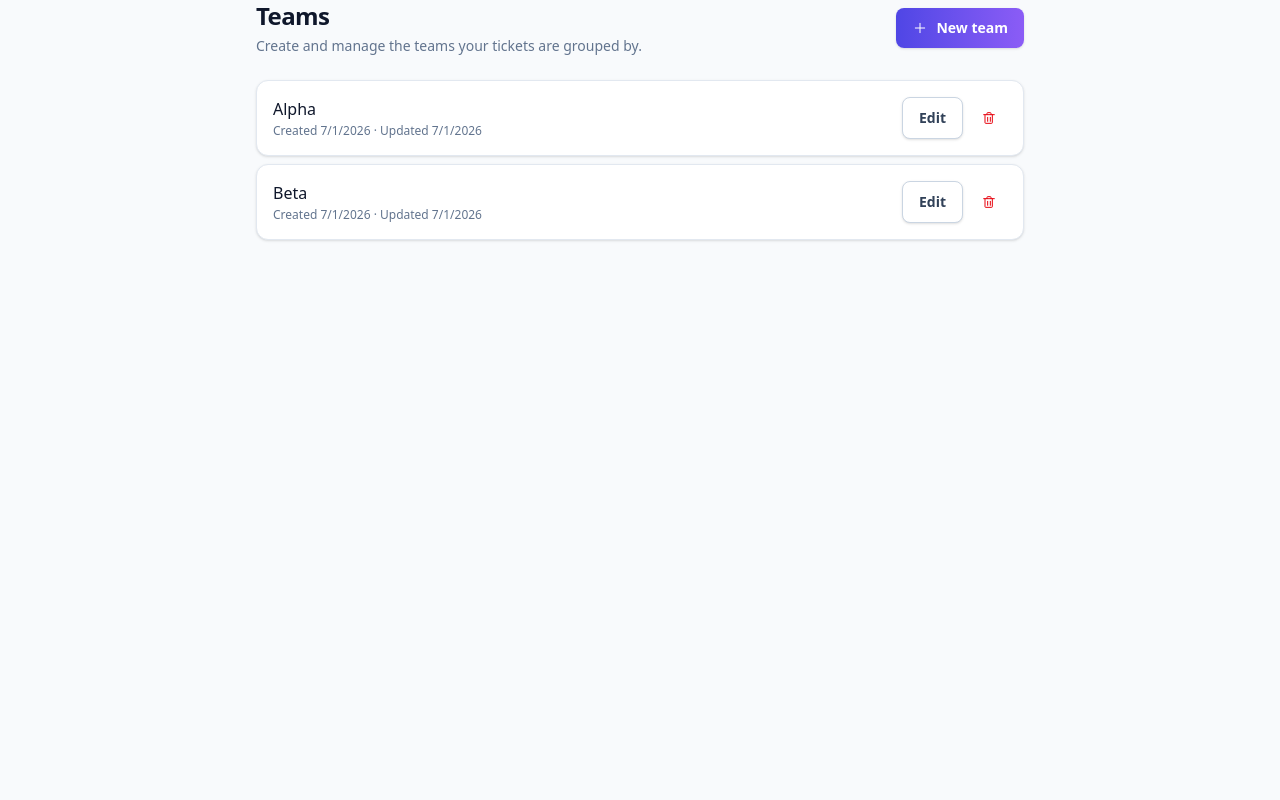
Test: a 409 on create shows the duplicate-name message
Expected: the text "Alpha" is shown, left=273, top=98, right=316, bottom=120
Click the button "New team" at point(960, 28), box left=896, top=8, right=1024, bottom=48
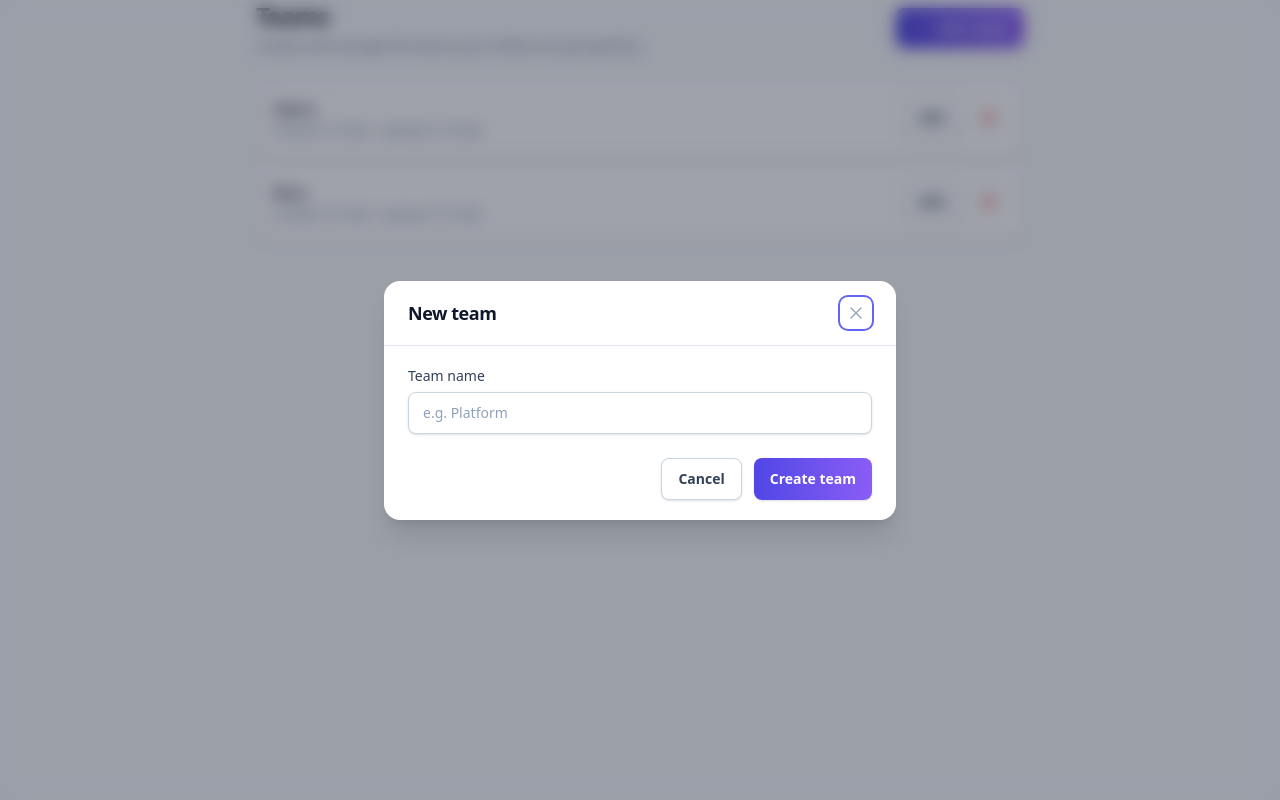
Type "Alpha" into the field labelled "Team name" at point(640, 412), box left=408, top=392, right=872, bottom=434
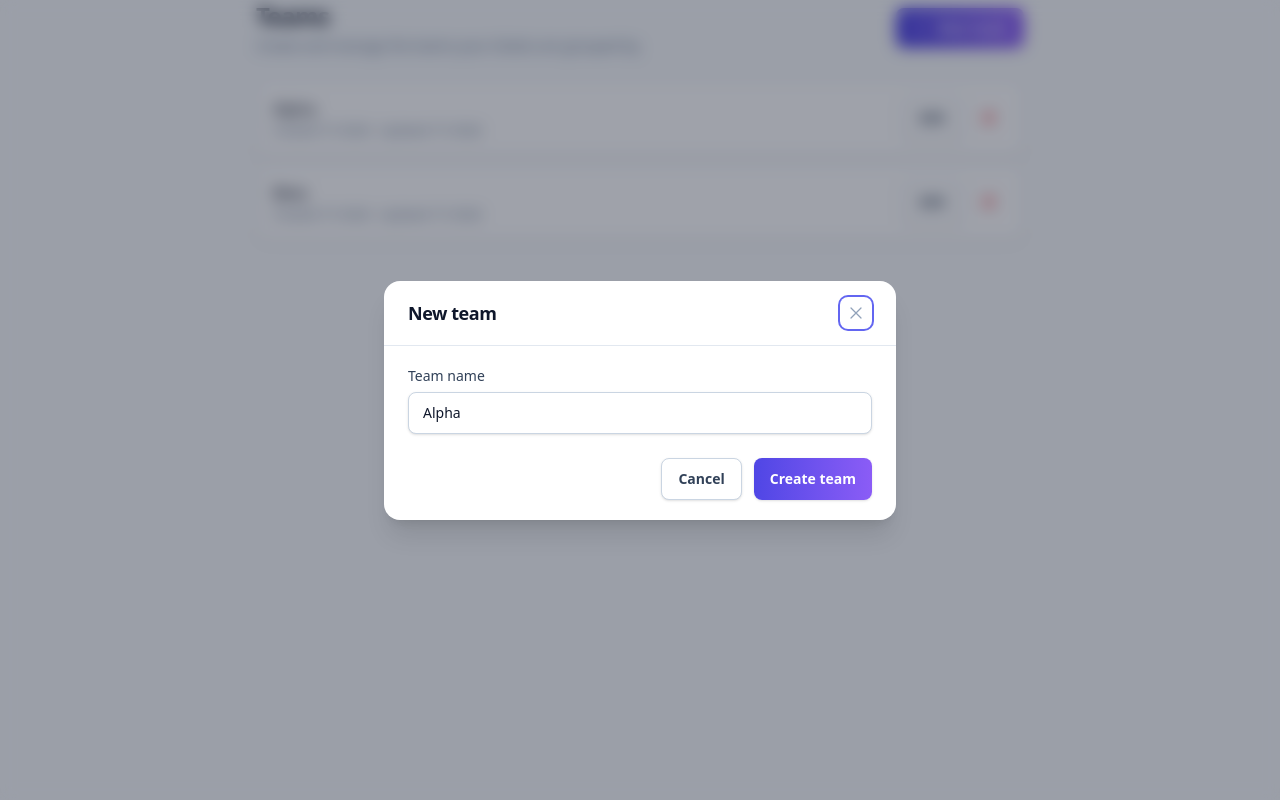
Click the button "Create team" at point(813, 478), box left=754, top=458, right=872, bottom=500
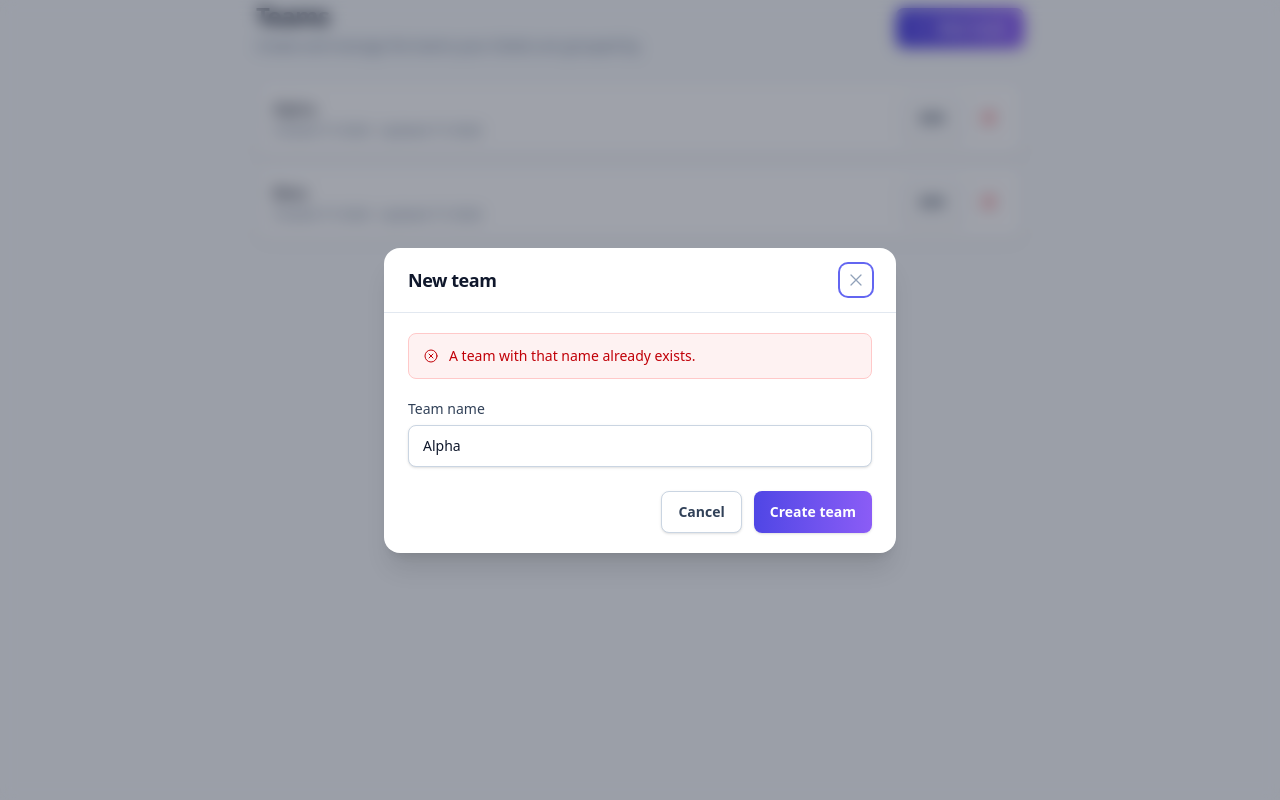
Now the text "A team with that name already exists." is shown, box left=449, top=346, right=695, bottom=366
